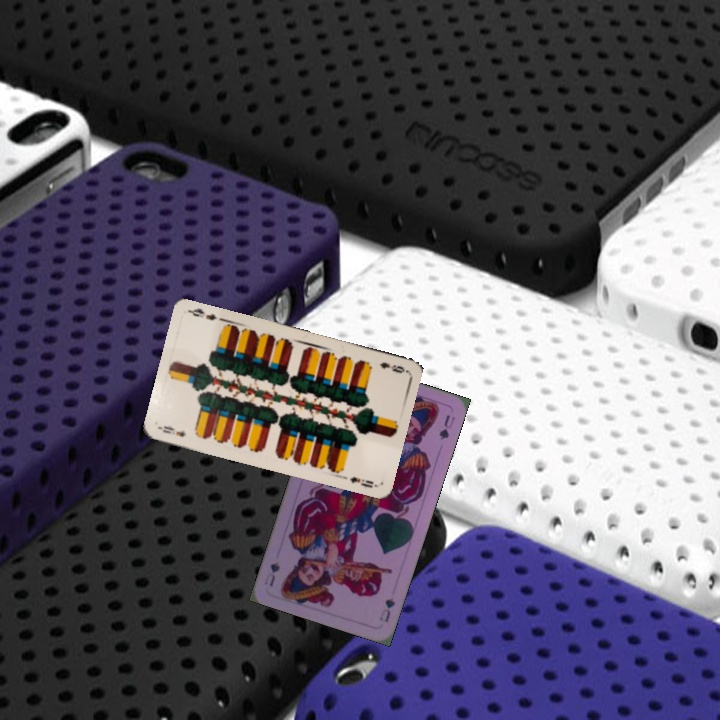E9: (156, 422, 189, 439), (376, 358, 407, 376)
GU: (376, 593, 398, 624)
